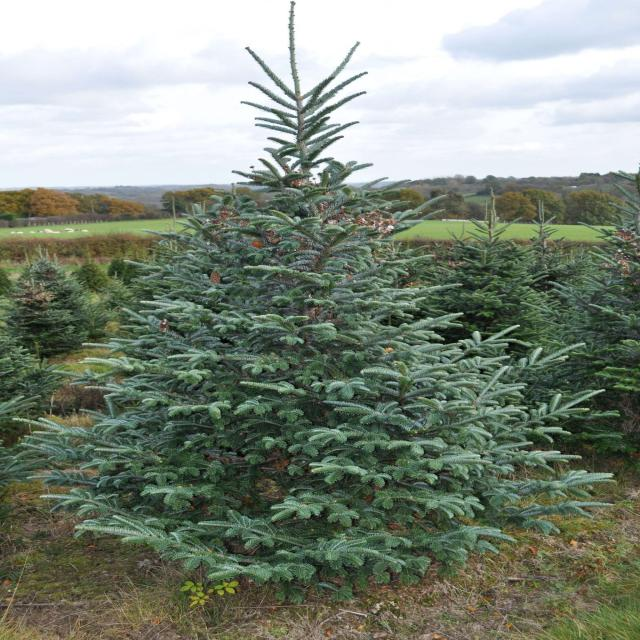Christmas-tree: (9, 0, 576, 603)
